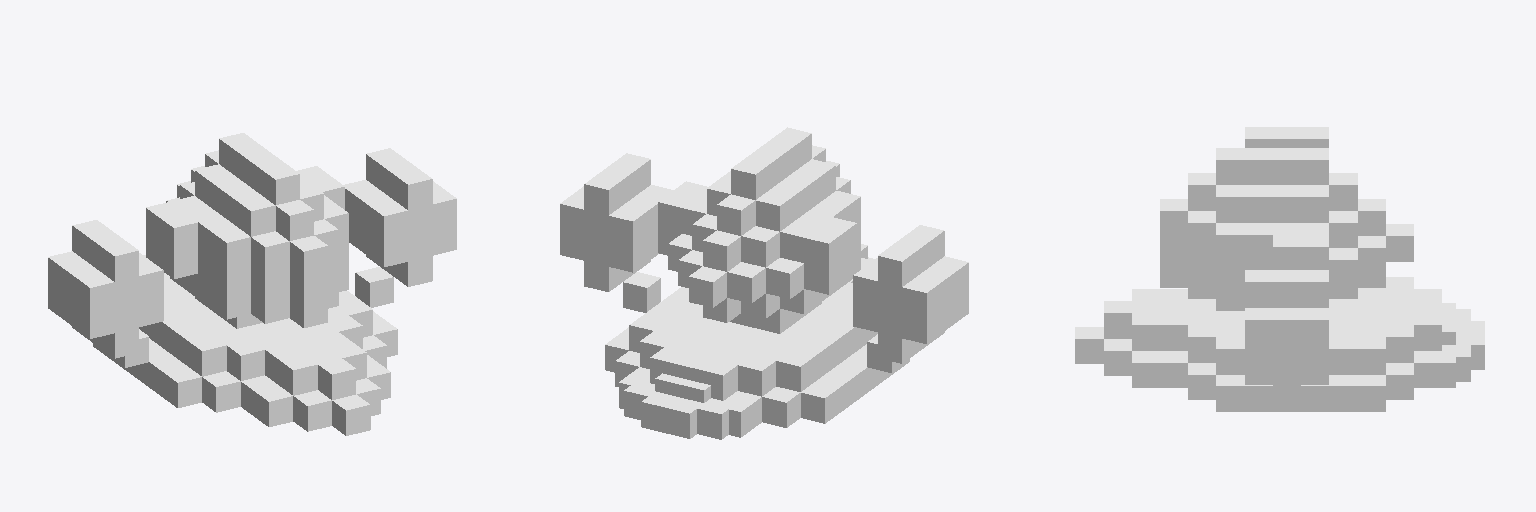
The model's file is all-purpose_mecha-0.obj.
The picture shows the model from 3 angles: view 1: azimuth 30°, elevation 25°; view 2: azimuth 150°, elevation 25°; view 3: azimuth 270°, elevation 25°; orthographic projection.
Parts seen in each view (by area): view 1: all-purpose_mecha-0; view 2: all-purpose_mecha-0; view 3: all-purpose_mecha-0.
Part boxes in pixels (x1,y1,x2,y2): all-purpose_mecha-0: (48, 133, 456, 435); all-purpose_mecha-0: (560, 127, 968, 439); all-purpose_mecha-0: (1075, 127, 1484, 411).
Bounding box in the file's own units: 30 × 16 × 29.